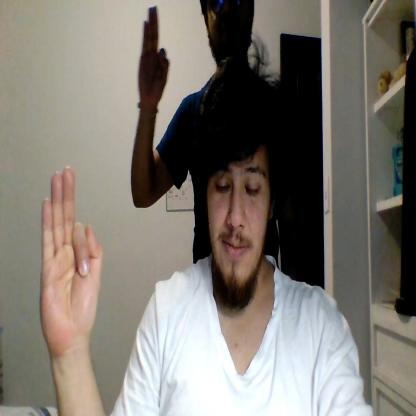F: (40, 166, 102, 350), (138, 5, 169, 106)
